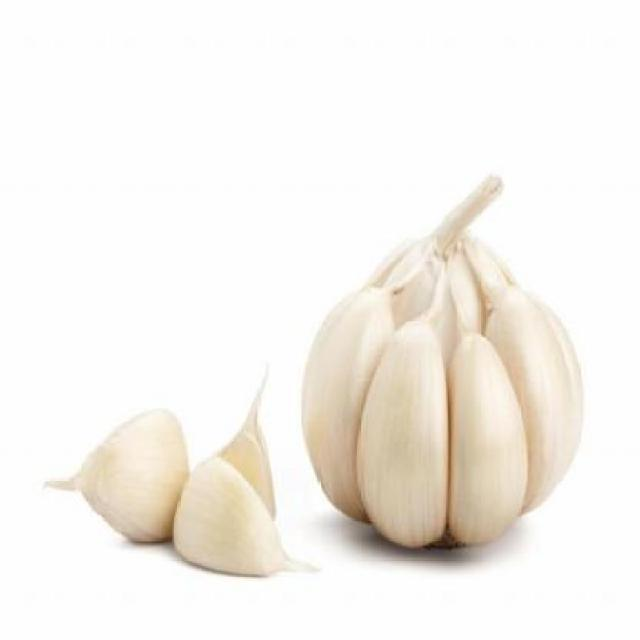garlic: (294, 172, 588, 554), (66, 379, 300, 579), (162, 454, 322, 580), (74, 404, 197, 544)
